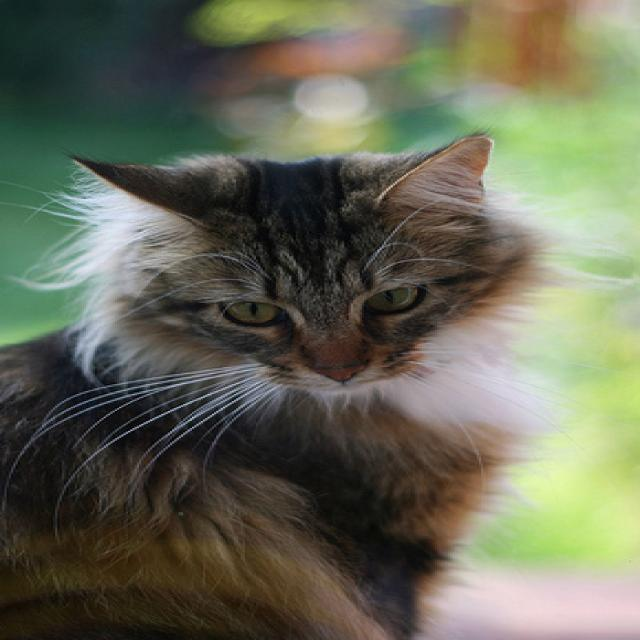Maine Coon: (0, 123, 574, 640)
